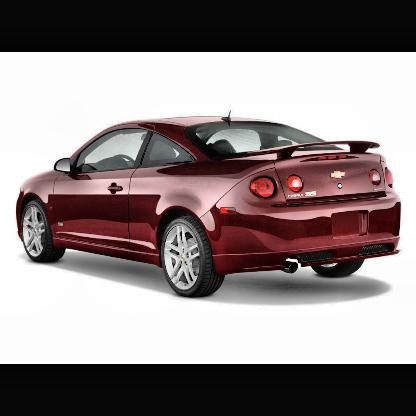Chevrolet Cobalt SS 2010: (16, 111, 402, 301)
